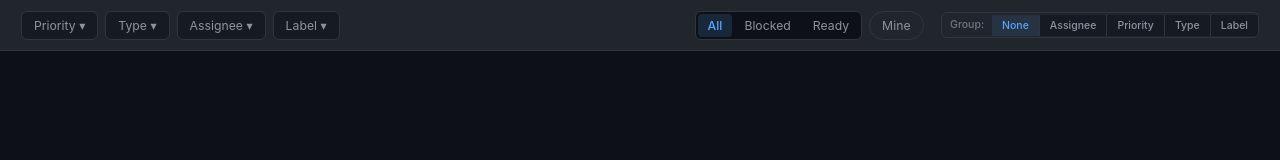
Scenario: FilterBar › shows assignees derived from issues
Click the button with class "filter-btn" showing "Assignee ▾". click: (221, 25)
box: top-left (177, 10), bottom-right (266, 40)
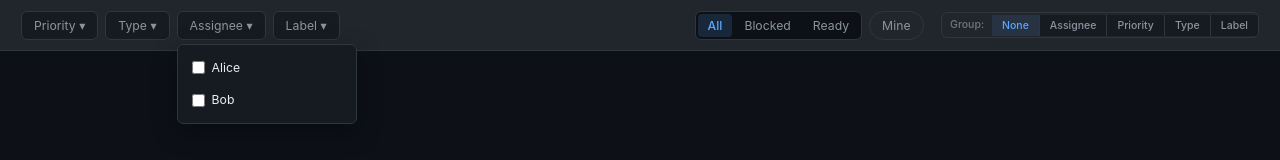
Expected: the text "Alice" is shown, top-left (212, 58), bottom-right (240, 77)
Expected: the text "Bob" is shown, top-left (212, 91), bottom-right (234, 109)
